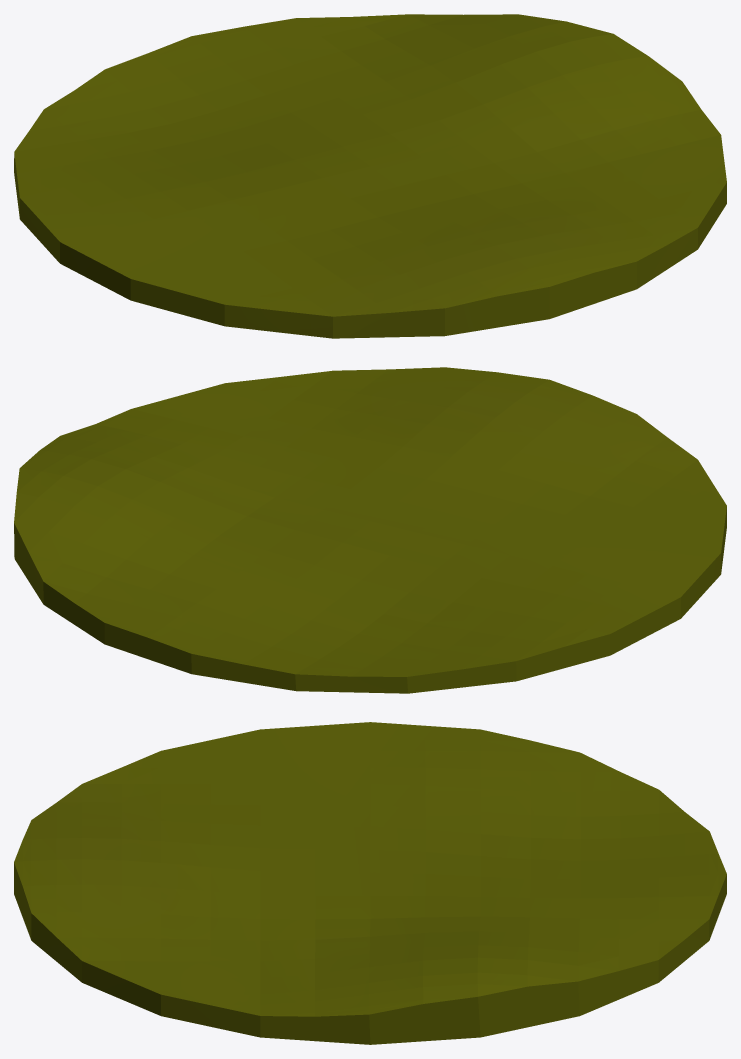
The model's file is mod_terrainCircle01.fbx.
3 views of the same model, one above another, from view 1: azimuth 30°, elevation 25°; view 2: azimuth 150°, elevation 25°; view 3: azimuth 270°, elevation 25° (orthographic).
Visible parts, largest first — view 1: Circle.001; view 2: Circle.001; view 3: Circle.001.
Boxes of the visible parts, box(x1,y1,x2,y2) form: Circle.001: box(14, 14, 726, 338); Circle.001: box(14, 367, 726, 693); Circle.001: box(14, 722, 726, 1044).
Size of the model in its own units: 6009 by 415 by 6001.
